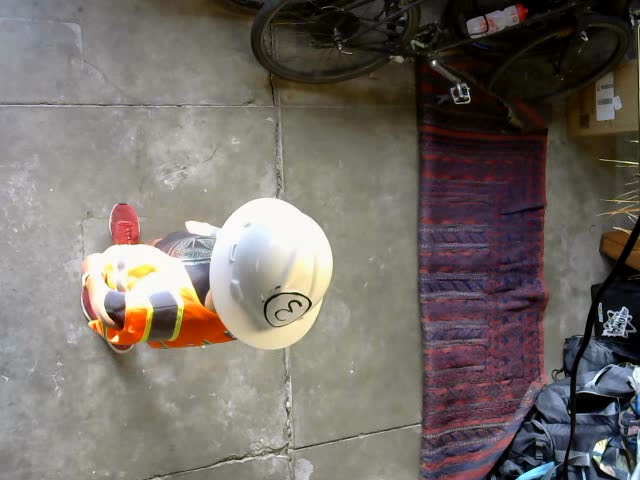three: (264, 292, 310, 326)
